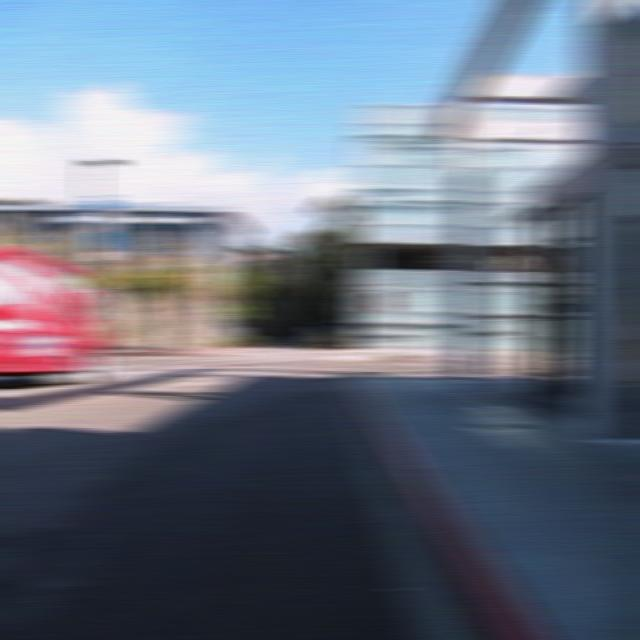stop: (369, 289, 396, 312)
